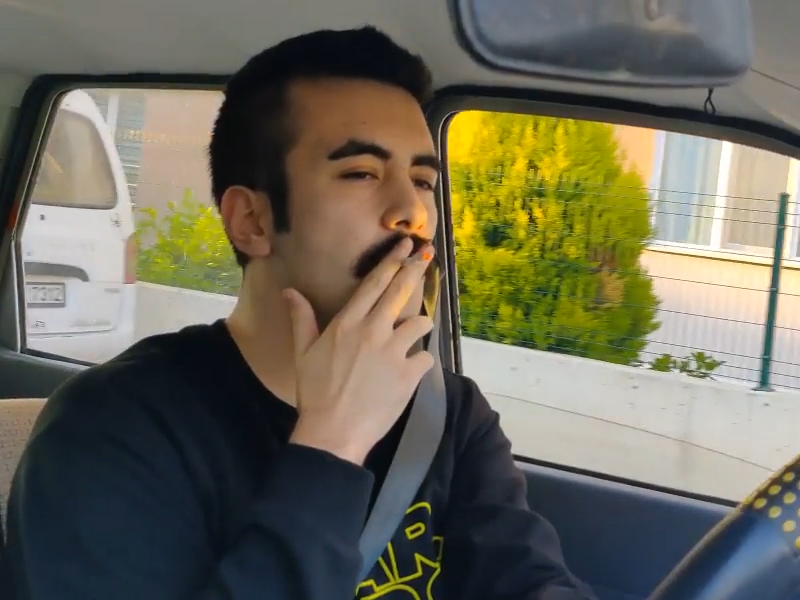sigara: (391, 242, 437, 271)
